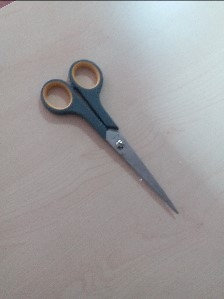scissors: (36, 54, 180, 216)
